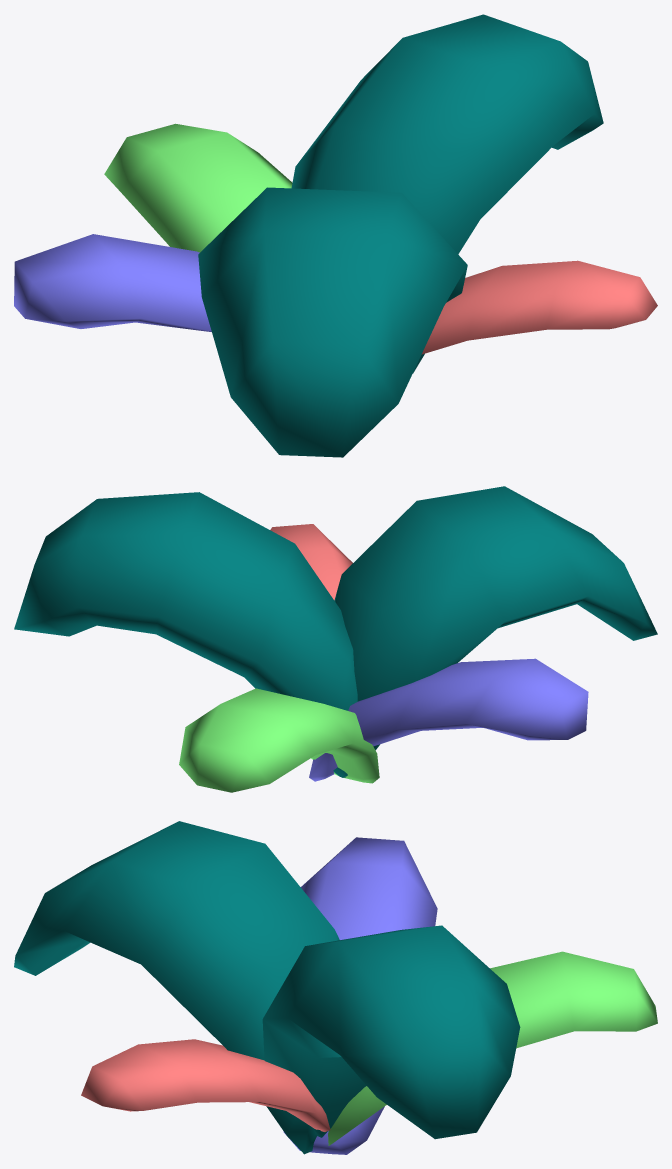
The model's file is Grass02.1.fbx.
3 views of the same model, one above another, from view 1: azimuth 30°, elevation 25°; view 2: azimuth 150°, elevation 25°; view 3: azimuth 270°, elevation 25° (orthographic). The views are drawn at different scales.
Parts seen in each view (by area): view 1: Low_Grass021; view 2: Low_Grass021; view 3: Low_Grass021.
Part boxes in pixels (x1,y1,x2,y2): Low_Grass021: (14,14,657,457); Low_Grass021: (14,486,657,792); Low_Grass021: (14,821,657,1154).
Bounding box in the file's own units: 815 × 377 × 796.
